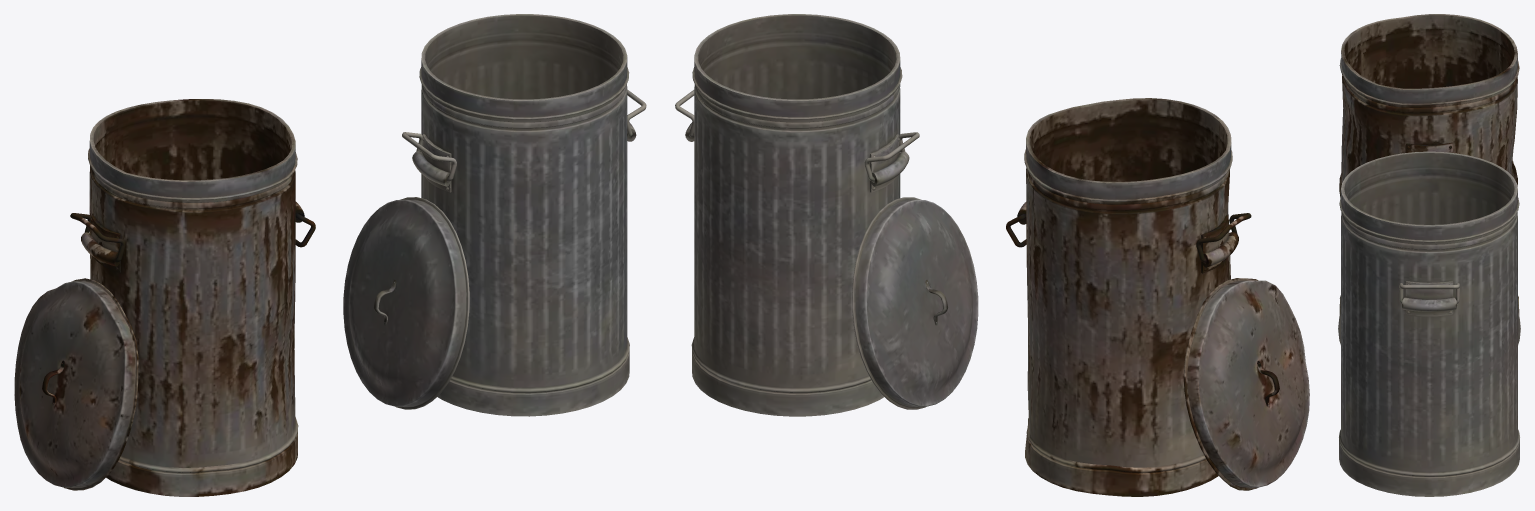
Rendered from trash-can.glb.
3 views of the same model, side by side, from view 1: azimuth 30°, elevation 25°; view 2: azimuth 150°, elevation 25°; view 3: azimuth 270°, elevation 25° (orthographic). The views are drawn at different scales.
Visible parts, largest first — view 1: metal_trash_can_handle_left, metal_trash_can_rust; view 2: metal_trash_can_handle_left, metal_trash_can_rust; view 3: metal_trash_can_handle_left, metal_trash_can_rust.
Boxes of the visible parts, x1,y1,x2,y2 form: metal_trash_can_handle_left: (343, 14, 646, 416); metal_trash_can_rust: (14, 99, 315, 496); metal_trash_can_handle_left: (675, 14, 978, 416); metal_trash_can_rust: (1006, 98, 1309, 496); metal_trash_can_handle_left: (1338, 151, 1520, 496); metal_trash_can_rust: (1339, 14, 1519, 315).
Bounding box in the file's own units: 1.78 × 0.9062 × 0.5563.
2 materials, 2 textured.
